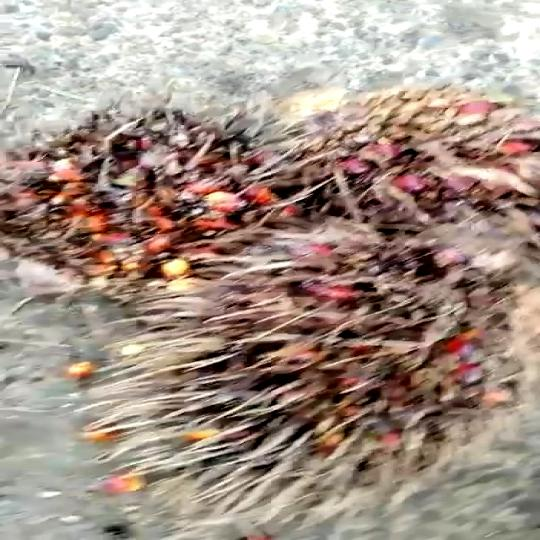terlalu masak: (90, 215, 516, 506), (0, 113, 339, 285)
